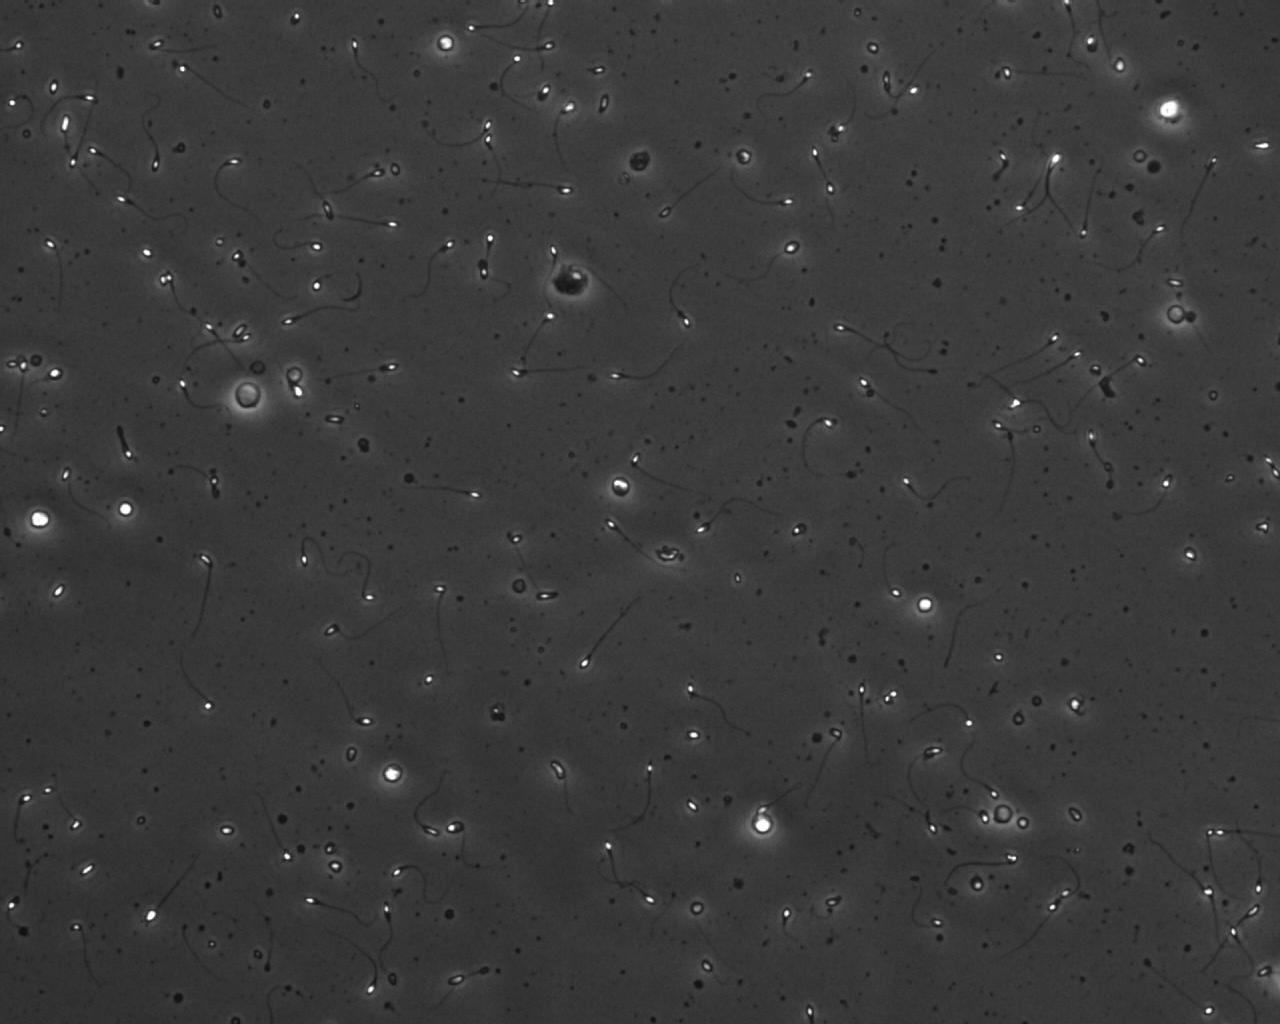cell: (546, 262, 594, 302), (231, 378, 265, 412), (747, 809, 777, 838), (1154, 96, 1183, 124), (625, 147, 653, 176), (1162, 300, 1190, 328), (607, 472, 634, 501), (26, 506, 55, 532), (379, 759, 406, 786), (990, 801, 1016, 828), (282, 363, 307, 388), (434, 30, 458, 55), (912, 594, 937, 616), (114, 497, 138, 520), (508, 575, 530, 598)
